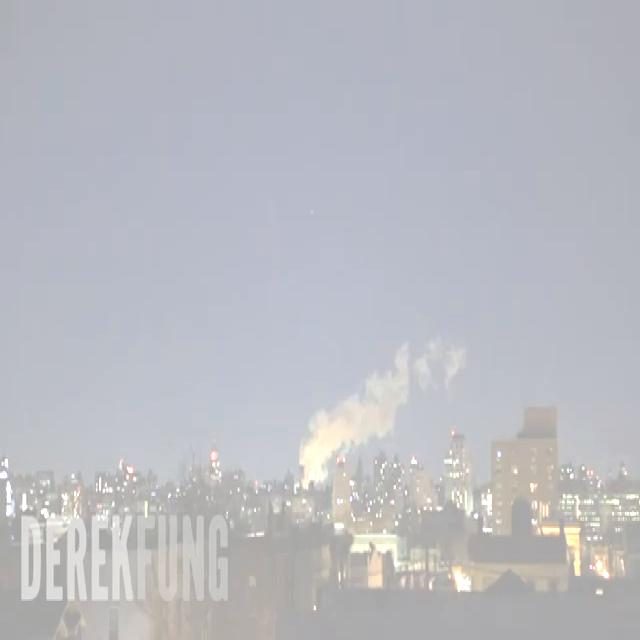smoke: (299, 336, 465, 478)
